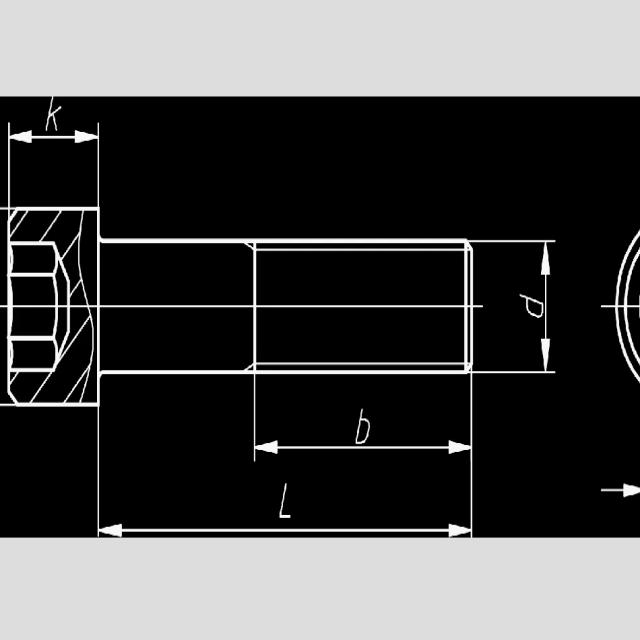marking_line: (94, 409, 474, 536), (251, 376, 478, 460), (473, 239, 556, 376), (6, 120, 99, 203), (600, 478, 640, 501)
